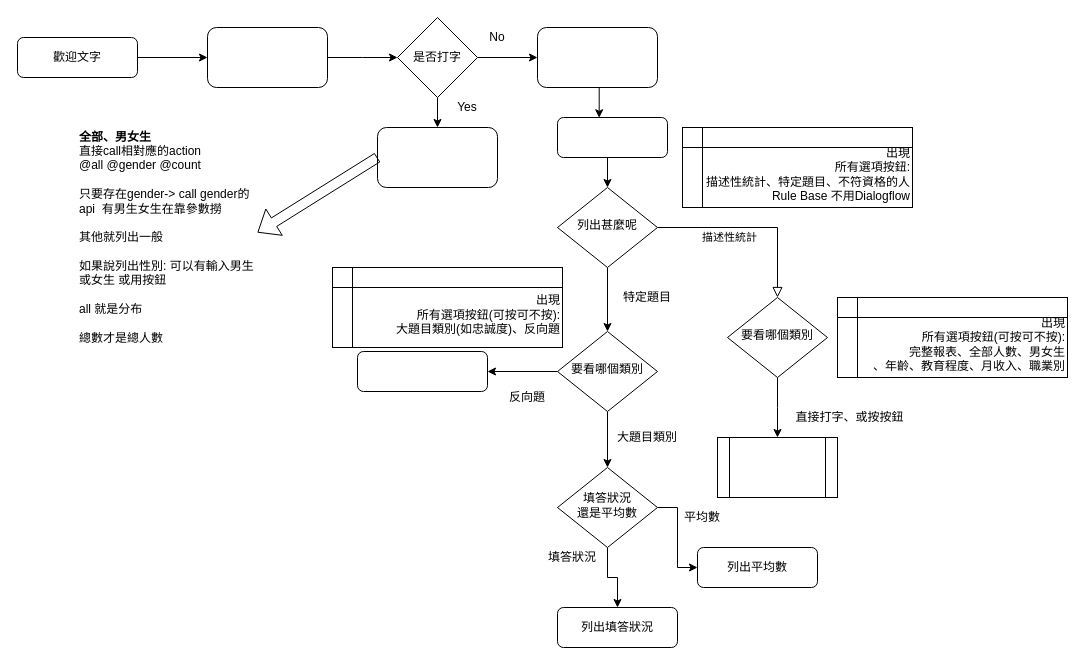
This 1085x665 diagram has some shape labels left out. Each missing label, with the box of its shape:
列出反向題填錯的人數: (356, 350, 488, 392)
按列出全部 (看可以列出的內容): (556, 116, 668, 158)
設計Menu按鈕: (536, 26, 658, 88)
透過dialogflow (參數轉變數): (716, 436, 838, 498)
透過DialogFlow return 值: (376, 126, 498, 188)
預設有列出完整報表的按鈕和提示使用者可以打字: (206, 26, 328, 88)
